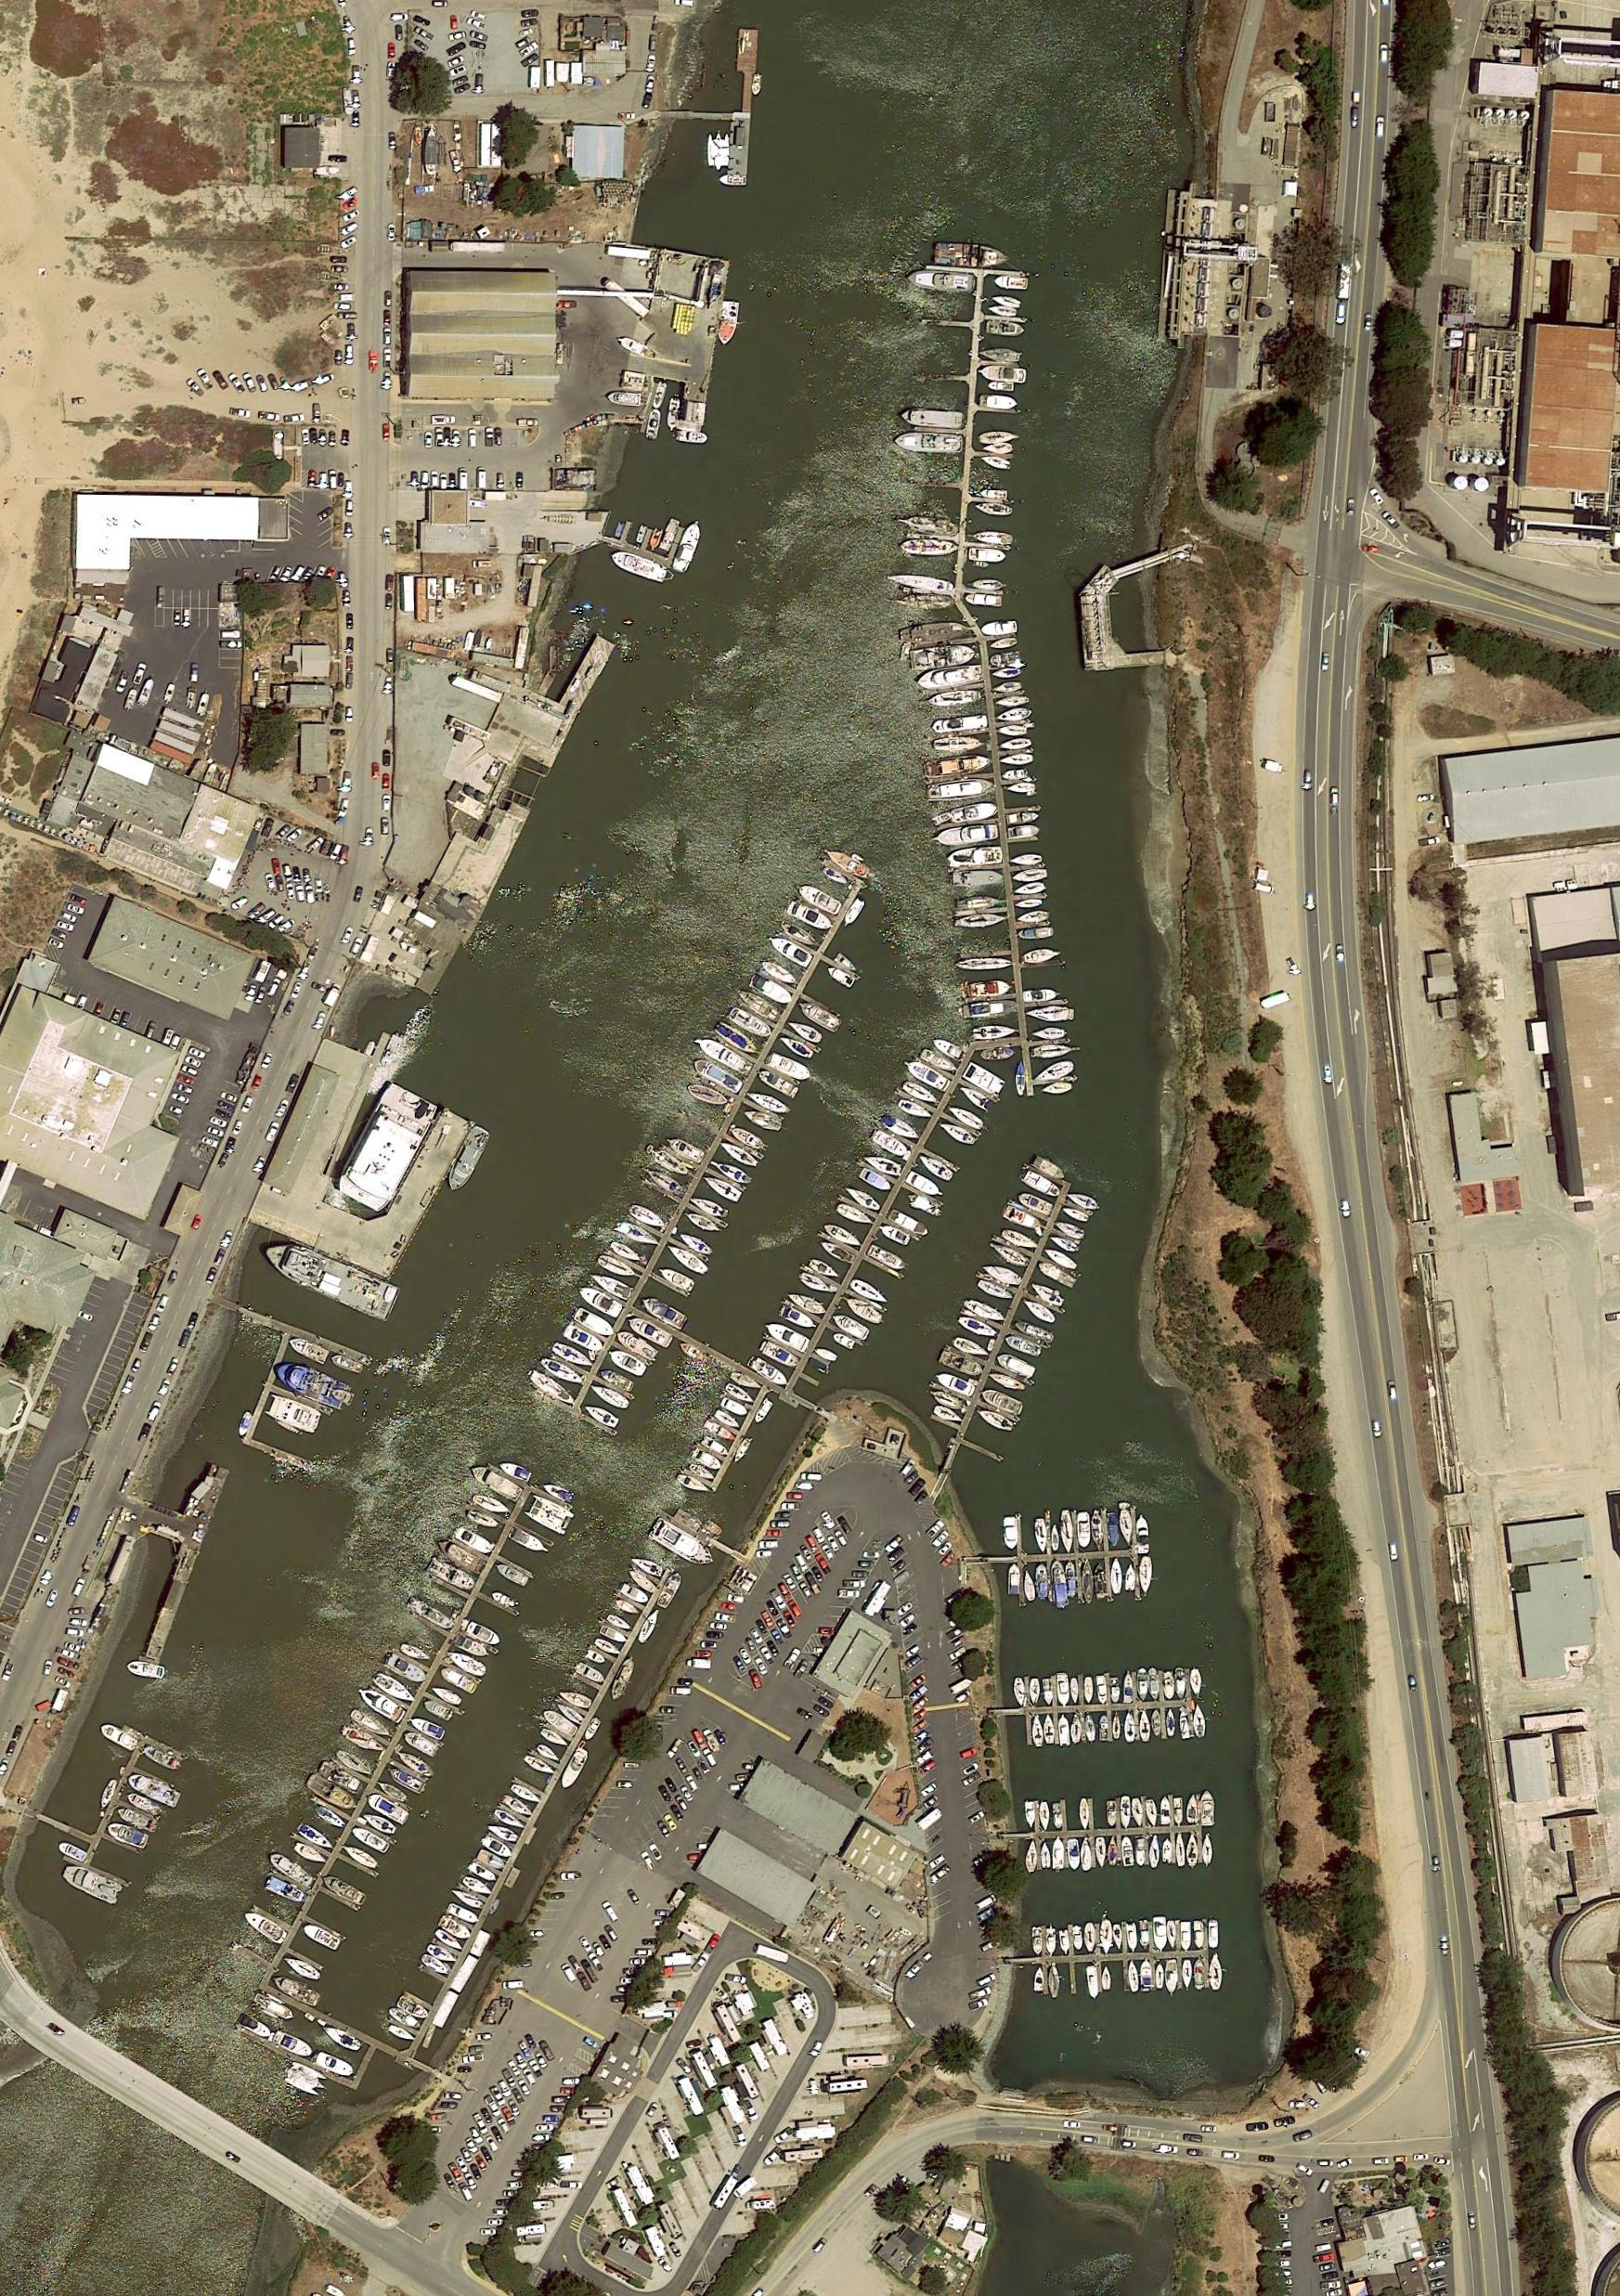harbor: (529, 855, 907, 1434), (222, 1462, 573, 2007), (380, 1554, 673, 2057), (745, 1050, 1006, 1411), (919, 631, 1072, 1053), (914, 1163, 1109, 1466), (898, 264, 1030, 603), (241, 1324, 374, 1479), (63, 1724, 188, 1888), (137, 1465, 232, 1667), (1017, 1921, 1212, 1998), (1017, 1794, 1204, 1872), (1012, 1667, 1196, 1746), (238, 1990, 379, 2092), (1002, 1506, 1143, 1604), (1075, 540, 1169, 677), (680, 28, 760, 187), (604, 501, 687, 569)
ship: (333, 1081, 440, 1213), (255, 1233, 405, 1326), (647, 1516, 720, 1576), (274, 1357, 353, 1412), (442, 1122, 493, 1198), (60, 1861, 123, 1907), (263, 1392, 323, 1435), (694, 1033, 754, 1077), (520, 1492, 577, 1537), (468, 1461, 525, 1504), (315, 1754, 368, 1799), (304, 1772, 359, 1815), (124, 1770, 183, 1810), (609, 547, 668, 585), (691, 1056, 745, 1096), (434, 1536, 486, 1576), (915, 662, 984, 693), (356, 1685, 408, 1725), (266, 1849, 318, 1889), (424, 1556, 477, 1595), (934, 241, 1013, 267), (270, 1971, 324, 2008), (669, 519, 705, 576), (526, 1370, 578, 1408), (280, 2060, 330, 2100), (899, 620, 976, 645), (240, 1908, 289, 1947), (908, 643, 977, 671), (575, 1282, 624, 1320), (785, 899, 836, 935), (714, 1021, 762, 1059), (905, 266, 976, 292), (640, 1295, 689, 1332), (922, 754, 994, 779), (962, 1060, 1007, 1099), (926, 777, 996, 802), (736, 986, 783, 1024), (371, 1670, 419, 1707), (588, 1265, 635, 1303), (767, 1049, 814, 1086), (824, 845, 872, 882), (763, 1317, 811, 1354), (626, 1315, 675, 1350), (728, 1004, 773, 1042), (767, 933, 814, 969), (365, 1791, 411, 1827), (797, 881, 843, 917), (904, 1057, 952, 1093), (893, 431, 965, 454), (749, 972, 795, 1008), (665, 1243, 711, 1278), (321, 1873, 369, 1907), (985, 1239, 1033, 1272), (343, 1723, 387, 1759), (615, 1327, 660, 1362), (797, 999, 842, 1034), (550, 1339, 596, 1373), (616, 1218, 663, 1252), (708, 1156, 756, 1189), (410, 1599, 455, 1634), (606, 1656, 639, 1705), (444, 1646, 489, 1680), (383, 1653, 429, 1687), (745, 1085, 791, 1119), (538, 1356, 586, 1389), (887, 570, 955, 592), (452, 1524, 497, 1559), (265, 1875, 310, 1909), (685, 1079, 731, 1112), (939, 1348, 985, 1381), (574, 1306, 616, 1342), (936, 823, 998, 847), (747, 1356, 791, 1390), (460, 1617, 504, 1651), (507, 1525, 551, 1559), (558, 1748, 592, 1791), (869, 1127, 912, 1161), (700, 1172, 743, 1206), (563, 1323, 606, 1356), (626, 1200, 669, 1234), (828, 1309, 872, 1343), (270, 2030, 316, 2061), (841, 1293, 884, 1327), (348, 1707, 392, 1740), (319, 2023, 364, 2055), (777, 1304, 821, 1335), (963, 1296, 1007, 1327), (287, 1335, 331, 1366), (105, 1820, 149, 1850), (1031, 1057, 1076, 1088), (590, 1380, 631, 1412), (98, 1720, 140, 1753), (862, 1148, 904, 1180), (595, 1252, 637, 1284), (652, 1148, 693, 1181), (823, 1220, 864, 1252), (719, 1139, 760, 1172), (979, 1387, 1025, 1417), (901, 408, 965, 429), (758, 1340, 801, 1371), (981, 1259, 1025, 1290), (539, 1707, 579, 1741), (438, 1664, 479, 1696), (296, 1822, 337, 1854), (607, 1346, 648, 1379), (904, 1170, 945, 1202), (333, 1747, 375, 1779), (849, 1277, 890, 1308), (1020, 1169, 1063, 1200), (994, 1351, 1037, 1381), (956, 1313, 1000, 1343), (447, 1882, 488, 1913), (385, 1764, 426, 1796), (880, 1112, 921, 1144), (888, 1208, 929, 1239), (350, 1824, 392, 1855), (301, 1922, 343, 1952), (778, 920, 820, 951), (714, 299, 740, 348), (314, 2051, 356, 2081), (447, 1955, 479, 1995), (114, 1805, 158, 1834), (340, 1841, 381, 1872), (1036, 1259, 1078, 1289), (742, 1106, 784, 1135), (282, 1953, 322, 1984), (867, 1243, 907, 1274), (1002, 1332, 1045, 1360), (1012, 1317, 1056, 1345), (395, 1749, 435, 1779), (471, 1490, 512, 1520), (901, 538, 960, 558), (1002, 1204, 1043, 1233), (936, 1369, 978, 1398), (141, 1745, 183, 1773), (786, 1289, 828, 1317), (401, 1729, 440, 1759), (916, 1153, 955, 1184), (760, 958, 799, 989), (667, 1135, 706, 1165), (685, 1209, 724, 1239), (938, 1119, 978, 1148), (757, 1068, 797, 1097), (644, 1166, 684, 1196), (949, 801, 1000, 824), (927, 689, 984, 709), (655, 1570, 684, 1611), (436, 1912, 473, 1943), (361, 1809, 399, 1839), (786, 1016, 824, 1046), (903, 516, 960, 537), (1000, 1226, 1040, 1254), (1019, 1298, 1059, 1327), (844, 1185, 884, 1213), (952, 1334, 992, 1362), (292, 1840, 330, 1870), (931, 715, 989, 734), (408, 1713, 447, 1742), (920, 1047, 959, 1076), (901, 1079, 940, 1108), (947, 1103, 986, 1132), (657, 1264, 696, 1292), (499, 1791, 535, 1822), (953, 912, 1010, 931), (949, 847, 1003, 867), (452, 1633, 490, 1662), (1030, 1155, 1069, 1183), (125, 1790, 164, 1818), (962, 1000, 1017, 1019), (836, 1201, 875, 1229), (690, 1191, 726, 1221), (432, 1991, 459, 2030), (706, 131, 734, 168), (237, 2012, 274, 2041), (930, 1034, 967, 1063), (858, 1167, 895, 1196), (778, 1033, 815, 1062), (729, 1123, 766, 1152), (423, 1939, 461, 1966), (582, 1402, 620, 1430), (895, 1096, 933, 1124), (1028, 1281, 1067, 1308), (988, 1369, 1027, 1395), (905, 1191, 944, 1218), (897, 592, 953, 611), (445, 1900, 482, 1928), (675, 1471, 712, 1498), (635, 1608, 662, 1646), (976, 1407, 1017, 1433), (493, 1561, 529, 1589), (627, 1567, 660, 1597), (977, 1278, 1015, 1304), (557, 1686, 595, 1712), (419, 1951, 454, 1978), (431, 1926, 466, 1953), (675, 1340, 711, 1367), (797, 1271, 834, 1298), (678, 1230, 714, 1257), (952, 869, 1004, 888), (466, 1859, 500, 1887), (396, 1995, 431, 2023), (1042, 1246, 1080, 1271), (1017, 1190, 1053, 1217), (522, 1751, 557, 1778), (313, 1805, 348, 1832), (702, 1418, 737, 1445), (388, 2004, 423, 2031), (956, 1084, 991, 1111), (599, 1368, 635, 1394), (260, 1997, 296, 2023), (818, 1239, 854, 1265), (928, 1387, 966, 1412), (486, 1819, 520, 1846), (492, 1806, 526, 1833), (573, 1661, 607, 1688), (397, 1641, 432, 1667), (430, 1681, 464, 1708), (839, 897, 866, 931), (465, 1507, 500, 1533), (499, 1458, 534, 1484), (1030, 1043, 1082, 1060), (958, 956, 1013, 973), (1052, 1216, 1088, 1241), (1064, 1187, 1100, 1213), (932, 735, 986, 752), (475, 1847, 509, 1874), (480, 1833, 514, 1859), (507, 1781, 541, 1807), (808, 1257, 842, 1283), (460, 1873, 495, 1898), (618, 1581, 651, 1608), (421, 1696, 455, 1722), (1050, 1559, 1068, 1608), (729, 1369, 763, 1394), (609, 1240, 643, 1265), (126, 1659, 166, 1680), (630, 1554, 666, 1578), (97, 1777, 121, 1812), (691, 1447, 723, 1473), (375, 1779, 408, 1804), (979, 366, 1027, 383), (658, 519, 682, 553), (966, 979, 1011, 998), (956, 895, 1005, 912), (1023, 1005, 1069, 1022), (704, 272, 724, 312), (724, 1381, 757, 1407), (330, 1353, 365, 1376), (616, 332, 648, 357), (555, 1702, 587, 1726), (423, 125, 438, 176), (973, 1024, 1017, 1041), (820, 865, 850, 889), (933, 1404, 965, 1427), (879, 1224, 911, 1247), (979, 618, 1018, 637), (538, 1727, 570, 1749), (719, 1395, 749, 1420), (826, 965, 856, 989), (1047, 1233, 1081, 1254), (489, 1589, 520, 1612), (731, 1435, 754, 1466), (57, 1840, 88, 1862), (1090, 1511, 1107, 1552), (752, 1397, 775, 1427), (613, 1596, 643, 1618), (1060, 1509, 1075, 1554), (979, 429, 1017, 447), (469, 1930, 491, 1960), (592, 1636, 622, 1658), (971, 529, 1013, 545), (1061, 1204, 1092, 1226), (1022, 947, 1061, 964), (979, 394, 1018, 410), (986, 321, 1025, 338), (599, 1624, 628, 1646), (714, 1409, 743, 1432), (1119, 1509, 1135, 1547), (1017, 926, 1055, 942), (541, 1480, 571, 1501), (535, 1741, 562, 1764), (996, 707, 1033, 723), (702, 1436, 730, 1459), (689, 1461, 717, 1484), (388, 2023, 416, 2045), (1136, 1514, 1151, 1555), (999, 752, 1035, 769), (834, 951, 859, 975), (969, 547, 1005, 564), (991, 292, 1023, 311), (1138, 1555, 1154, 1593), (582, 1715, 603, 1743), (964, 592, 1004, 607), (1153, 1915, 1169, 1952), (979, 347, 1021, 361), (1093, 1563, 1108, 1599), (137, 676, 156, 707), (1021, 988, 1059, 1003), (975, 502, 1013, 517), (995, 694, 1030, 709), (1033, 1518, 1049, 1553), (1003, 1518, 1020, 1550), (1200, 1790, 1215, 1827), (651, 381, 669, 410), (605, 1614, 633, 1633), (998, 736, 1032, 752), (994, 275, 1029, 291), (1173, 1666, 1188, 1702), (1077, 1512, 1092, 1549), (1209, 1953, 1223, 1991), (1082, 1559, 1094, 1605), (1047, 1963, 1061, 2000), (646, 408, 662, 440), (1023, 1839, 1038, 1874), (970, 577, 1004, 592), (1013, 868, 1047, 883), (813, 1345, 839, 1365), (1035, 1563, 1049, 1599), (236, 1411, 254, 1438), (1030, 1714, 1044, 1749), (1147, 1667, 1161, 1702), (1107, 1512, 1121, 1548), (1120, 1795, 1134, 1830), (1056, 1672, 1070, 1707), (667, 396, 680, 432), (1109, 1559, 1122, 1596), (1121, 1836, 1135, 1868), (991, 681, 1023, 695), (1007, 824, 1040, 839), (980, 1047, 1015, 1061), (1013, 882, 1047, 896), (1005, 811, 1040, 825), (1066, 1560, 1078, 1599), (678, 430, 709, 445), (983, 440, 1013, 456), (1139, 1959, 1153, 1992), (1017, 910, 1050, 924), (1032, 1027, 1066, 1041), (1166, 1959, 1178, 1997), (1193, 1705, 1206, 1740), (123, 686, 140, 712), (996, 724, 1029, 738), (196, 691, 213, 718), (1100, 1918, 1112, 1955), (832, 1331, 856, 1350), (1079, 1796, 1092, 1830), (1086, 1965, 1099, 2000), (607, 392, 642, 405), (1080, 1836, 1092, 1873), (1174, 1833, 1186, 1869), (647, 527, 664, 553), (1011, 853, 1044, 866), (1095, 1836, 1108, 1869), (1022, 1569, 1035, 1602), (1084, 1922, 1097, 1954), (583, 1649, 608, 1666), (1058, 1714, 1070, 1748), (1139, 1709, 1151, 1744), (1136, 1668, 1148, 1703), (1068, 1837, 1080, 1872), (1186, 1834, 1199, 1868), (1069, 1713, 1083, 1743), (989, 637, 1018, 651), (1084, 1712, 1097, 1744), (1132, 1797, 1145, 1828), (991, 667, 1023, 680), (1038, 1800, 1051, 1832), (1208, 1918, 1221, 1950), (1015, 1063, 1027, 1096), (1145, 1798, 1159, 1827), (1163, 1671, 1176, 1702), (1007, 1564, 1020, 1595), (1193, 1958, 1206, 1989), (981, 457, 1012, 470), (1149, 1835, 1160, 1870), (1043, 1713, 1056, 1745), (1202, 1834, 1214, 1866), (1189, 1668, 1203, 1696), (1008, 782, 1036, 796), (342, 87, 356, 115), (1031, 1926, 1044, 1956), (719, 174, 748, 187), (1043, 1083, 1072, 1096), (1053, 1838, 1065, 1870), (1014, 1679, 1027, 1707), (1128, 1960, 1139, 1993), (1178, 1708, 1190, 1739), (1107, 1836, 1119, 1866), (1124, 1711, 1135, 1744), (1123, 1672, 1134, 1705), (1001, 769, 1029, 782), (1096, 1676, 1108, 1706), (1126, 1923, 1138, 1952), (162, 681, 177, 705), (1135, 1836, 1147, 1867), (1182, 1959, 1193, 1991), (750, 72, 764, 97), (1015, 898, 1043, 910), (988, 305, 1017, 318), (1160, 1796, 1171, 1826), (1043, 1679, 1055, 1706), (1186, 1795, 1198, 1824), (1181, 1922, 1192, 1952), (1110, 1677, 1121, 1706), (1083, 1676, 1095, 1705), (1139, 1921, 1150, 1950), (979, 488, 1008, 499), (1150, 1709, 1161, 1737), (1125, 1563, 1136, 1591), (1053, 1803, 1064, 1831), (1046, 1929, 1057, 1957), (1173, 1797, 1184, 1827), (1167, 1920, 1177, 1950), (1107, 1800, 1118, 1827), (1030, 1678, 1041, 1705), (1101, 1965, 1112, 1991), (1113, 1924, 1124, 1951), (1166, 1708, 1176, 1737), (1070, 1677, 1081, 1706), (1162, 1838, 1173, 1864), (1033, 1966, 1044, 1992), (1059, 1930, 1070, 1956), (989, 381, 1015, 392), (1099, 1714, 1109, 1742), (1041, 1841, 1051, 1869), (635, 524, 649, 544), (1050, 1525, 1060, 1552), (1026, 1802, 1036, 1829), (1112, 1711, 1121, 1740), (613, 520, 627, 538), (1073, 1926, 1083, 1951), (1195, 1922, 1204, 1949), (1156, 1963, 1165, 1989)
